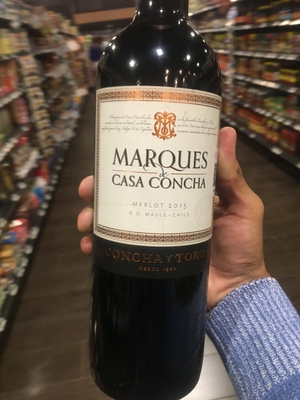marques de casa concha merlot: (73, 18, 239, 396)
